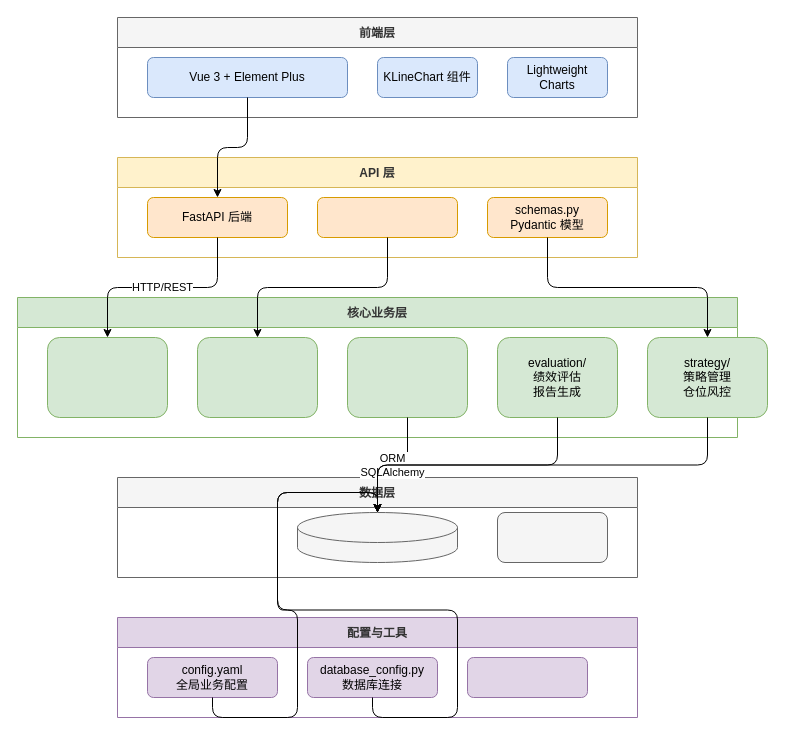
Some shapes in this 785 by 743 pixel diagram are drawn without their labels. The shapes that lost their labels are listed below. From the top down, each one's centre as x and y in pixels, then its label:
[387,217]: routers/ data | backtest | strategies
[107,377]: analysis/ 因子库与处理器
[257,377]: backtest/ 回测引擎 (Backtrader)
[407,377]: data/ 数据获取与清洗 PostgreSQL ORM
[377,537]: PostgreSQL Server 17
[552,537]: stock_data backtest_results strategy_configs
[527,677]: utils/ 日志与调度
